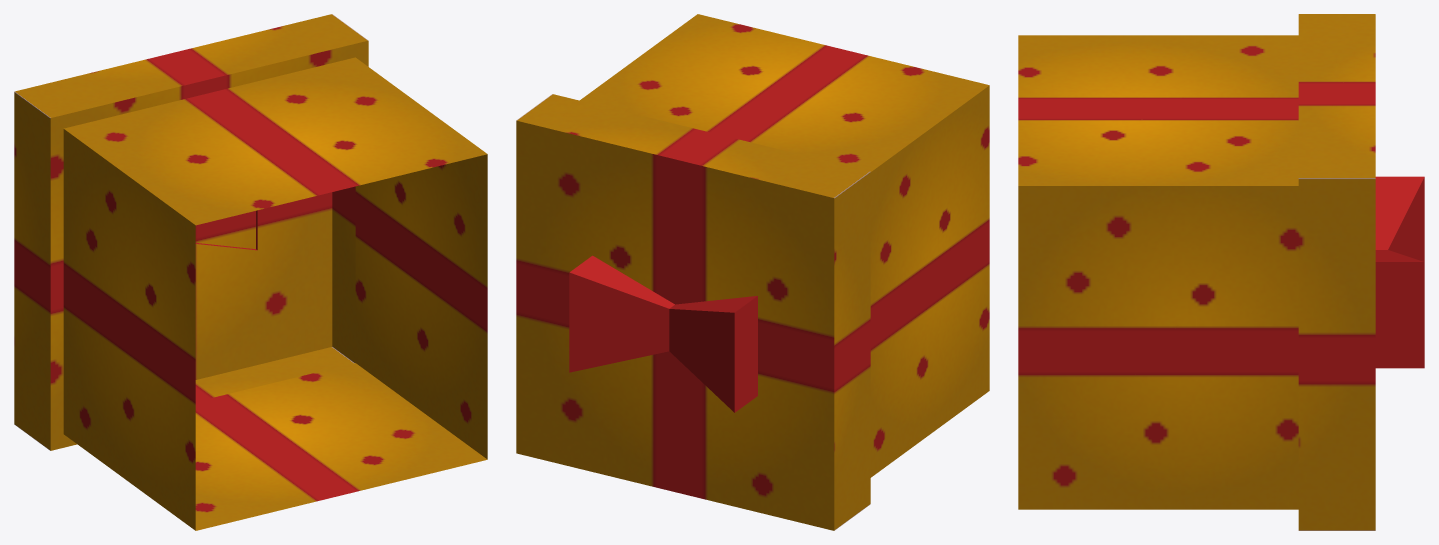
The model's file is present3.fbx.
3 views of the same model, side by side, from view 1: azimuth 30°, elevation 25°; view 2: azimuth 150°, elevation 25°; view 3: azimuth 270°, elevation 25° (orthographic). The views are drawn at different scales.
Visible parts, largest first — view 1: Present3; view 2: Present3; view 3: Present3.
Part boxes in pixels (<box>): Present3: <box>14,14,487,530</box>; Present3: <box>516,14,989,530</box>; Present3: <box>1018,14,1424,530</box>.
Size of the model in its own units: 0.533 by 0.533 by 0.5565.
